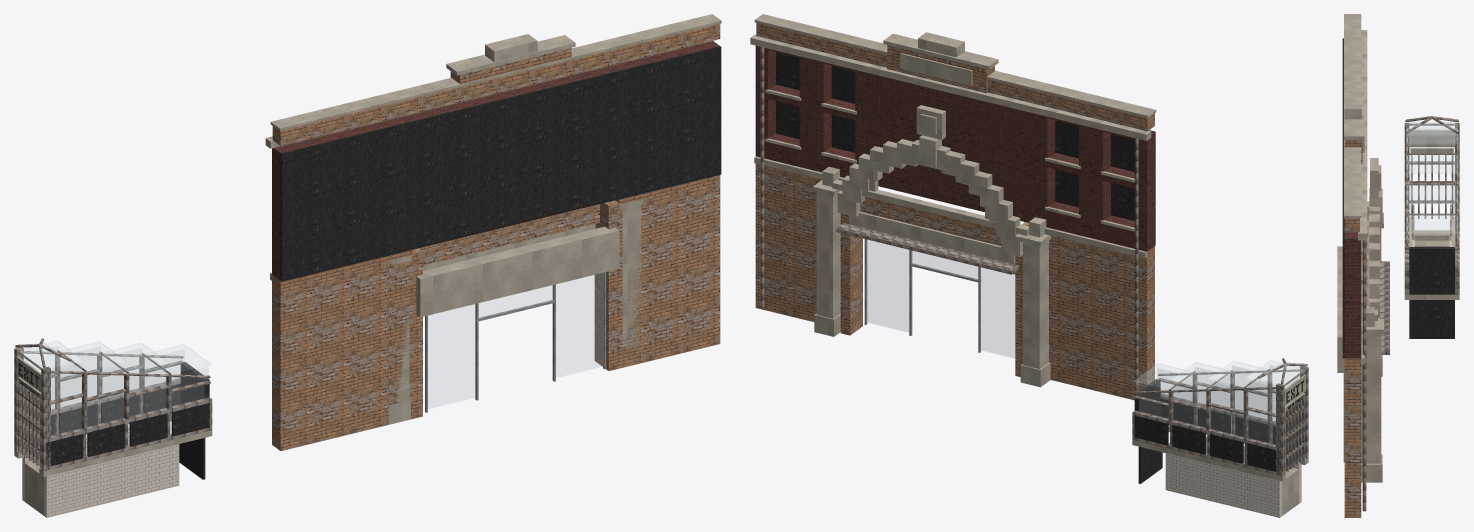
Rendered from passage_gateway.gltf.
3 renders of one model, left to right at view 1: azimuth 30°, elevation 25°; view 2: azimuth 150°, elevation 25°; view 3: azimuth 270°, elevation 25°, orthographic. The views are drawn at different scales.
Parts seen in each view (by area): view 1: F01_OWN_STREET_retail_passage_proxy_gateway_soot-col, F01_OWN_STREET_retail_passage_proxy_gateway_common_brick-col, F01_OWN_STREET_retail_passage_proxy_limestone-col, F01_OWN_STREET_retail_passage_proxy_glassish-col, F01_OWN_STREET_retail_passage_proxy_gateway_glassish-col, F01_OWN_STREET_retail_passage_proxy_gateway_cast_iron-col, F01_OWN_STREET_retail_passage_proxy_gateway_limestone-col, F01_OWN_STREET_retail_passage_proxy_gateway_subway_tile-col, F01_OWN_STREET_retail_passage_proxy_gateway_face_brick-col, F01_OWN_STREET_retail_passage_proxy_common_brick-col, F01_OWN_STREET_retail_passage_proxy_metal-col, F01_OWN_STREET_retail_passage_proxy_gateway_cast_iron; view 2: F01_OWN_STREET_retail_passage_proxy_gateway_common_brick-col, F01_OWN_STREET_retail_passage_proxy_gateway_face_brick-col, F01_OWN_STREET_retail_passage_proxy_limestone-col, F01_OWN_STREET_retail_passage_proxy_gateway_limestone-col, F01_OWN_STREET_retail_passage_proxy_gateway_soot-col, F01_OWN_STREET_retail_passage_proxy_gateway_cast_iron-col, F01_OWN_STREET_retail_passage_proxy_gateway_glassish-col, F01_OWN_STREET_retail_passage_proxy_glassish-col, F01_OWN_STREET_retail_passage_proxy_gateway_subway_tile-col, F01_OWN_STREET_retail_passage_proxy_gateway_cast_iron, F01_OWN_STREET_retail_passage_proxy_common_brick-col, F01_OWN_STREET_retail_passage_proxy_metal-col; view 3: F01_OWN_STREET_retail_passage_proxy_limestone-col, F01_OWN_STREET_retail_passage_proxy_gateway_limestone-col, F01_OWN_STREET_retail_passage_proxy_gateway_soot-col, F01_OWN_STREET_retail_passage_proxy_gateway_glassish-col, F01_OWN_STREET_retail_passage_proxy_gateway_cast_iron-col, F01_OWN_STREET_retail_passage_proxy_gateway_common_brick-col, F01_OWN_STREET_retail_passage_proxy_gateway_cast_iron, F01_OWN_STREET_retail_passage_proxy_gateway_face_brick-col, F01_OWN_STREET_retail_passage_proxy_common_brick-col, F01_OWN_STREET_retail_passage_proxy_metal-col.
Part boxes in pixels (x1,y1,x2,y2): F01_OWN_STREET_retail_passage_proxy_gateway_soot-col: (18, 46, 721, 479); F01_OWN_STREET_retail_passage_proxy_gateway_common_brick-col: (272, 24, 720, 450); F01_OWN_STREET_retail_passage_proxy_limestone-col: (388, 34, 643, 424); F01_OWN_STREET_retail_passage_proxy_glassish-col: (428, 273, 603, 408); F01_OWN_STREET_retail_passage_proxy_gateway_glassish-col: (15, 341, 210, 435); F01_OWN_STREET_retail_passage_proxy_gateway_cast_iron-col: (14, 347, 212, 471); F01_OWN_STREET_retail_passage_proxy_gateway_limestone-col: (14, 14, 721, 515); F01_OWN_STREET_retail_passage_proxy_gateway_subway_tile-col: (22, 424, 179, 517); F01_OWN_STREET_retail_passage_proxy_gateway_face_brick-col: (272, 41, 719, 280); F01_OWN_STREET_retail_passage_proxy_common_brick-col: (450, 48, 571, 101); F01_OWN_STREET_retail_passage_proxy_metal-col: (425, 272, 606, 412); F01_OWN_STREET_retail_passage_proxy_gateway_cast_iron: (15, 338, 210, 378); F01_OWN_STREET_retail_passage_proxy_gateway_common_brick-col: (755, 23, 1154, 400); F01_OWN_STREET_retail_passage_proxy_gateway_face_brick-col: (755, 45, 1154, 251); F01_OWN_STREET_retail_passage_proxy_limestone-col: (813, 32, 1051, 387); F01_OWN_STREET_retail_passage_proxy_gateway_limestone-col: (750, 14, 1308, 515); F01_OWN_STREET_retail_passage_proxy_gateway_soot-col: (776, 52, 1304, 483); F01_OWN_STREET_retail_passage_proxy_gateway_cast_iron-col: (836, 223, 1308, 476); F01_OWN_STREET_retail_passage_proxy_gateway_glassish-col: (1133, 360, 1307, 444); F01_OWN_STREET_retail_passage_proxy_glassish-col: (867, 240, 1014, 358); F01_OWN_STREET_retail_passage_proxy_gateway_subway_tile-col: (1165, 435, 1301, 517); F01_OWN_STREET_retail_passage_proxy_gateway_cast_iron: (760, 47, 1307, 393); F01_OWN_STREET_retail_passage_proxy_common_brick-col: (887, 45, 994, 93); F01_OWN_STREET_retail_passage_proxy_metal-col: (864, 239, 981, 352); F01_OWN_STREET_retail_passage_proxy_limestone-col: (1337, 82, 1383, 482); F01_OWN_STREET_retail_passage_proxy_gateway_limestone-col: (1344, 14, 1459, 364); F01_OWN_STREET_retail_passage_proxy_gateway_soot-col: (1342, 38, 1454, 358); F01_OWN_STREET_retail_passage_proxy_gateway_glassish-col: (1406, 122, 1457, 247); F01_OWN_STREET_retail_passage_proxy_gateway_cast_iron-col: (1380, 123, 1459, 354); F01_OWN_STREET_retail_passage_proxy_gateway_common_brick-col: (1344, 218, 1368, 517); F01_OWN_STREET_retail_passage_proxy_gateway_cast_iron: (1362, 116, 1459, 511); F01_OWN_STREET_retail_passage_proxy_gateway_face_brick-col: (1344, 232, 1361, 358); F01_OWN_STREET_retail_passage_proxy_common_brick-col: (1344, 140, 1362, 164); F01_OWN_STREET_retail_passage_proxy_metal-col: (1343, 373, 1344, 462).
Size of the model in its own units: 20.93 by 12.08 by 3.67.
8 materials, 7 textured.
